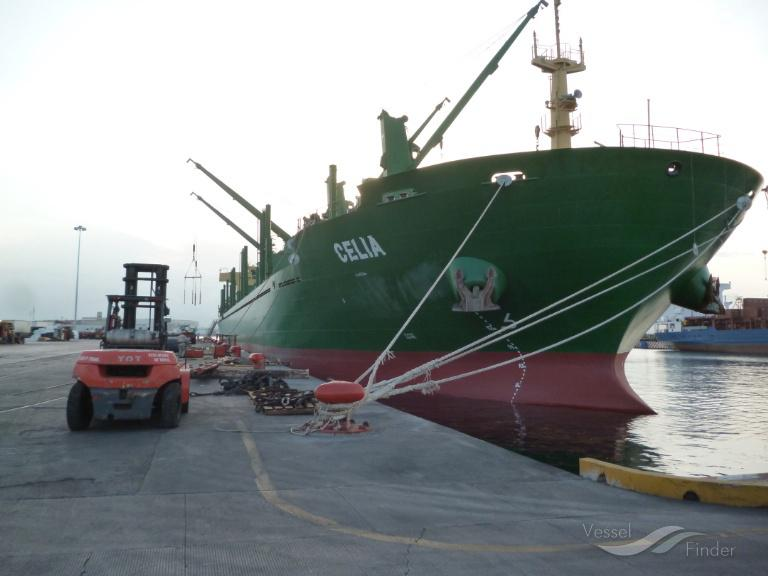OCR: (328, 232, 386, 271)
